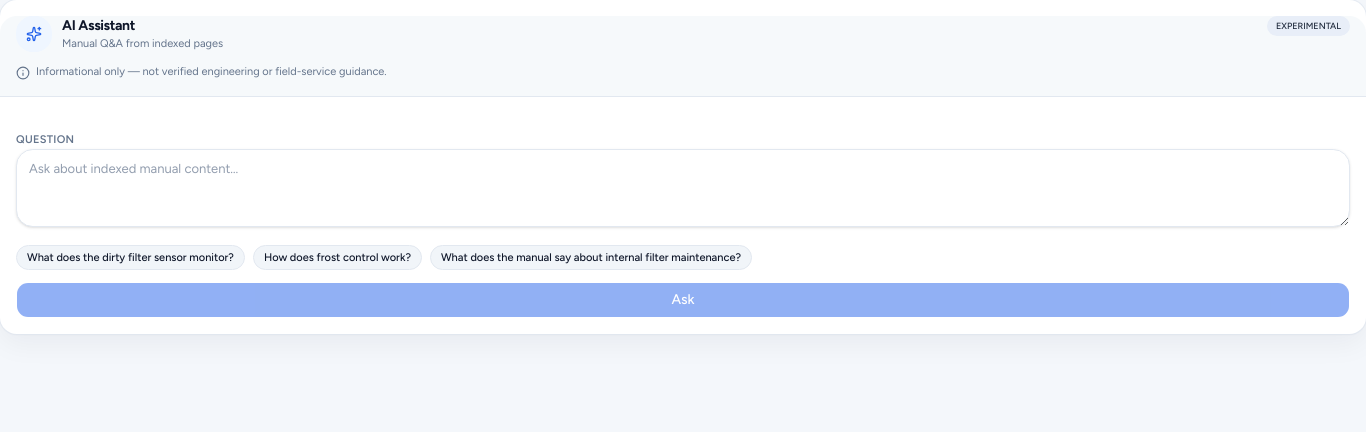
it: AiAssistantCard › shows error UI for HTTP 429
Type "Test question" into the text box named "Assistant question".
click(683, 188); type("Test question")  # box [16,149,1350,227]
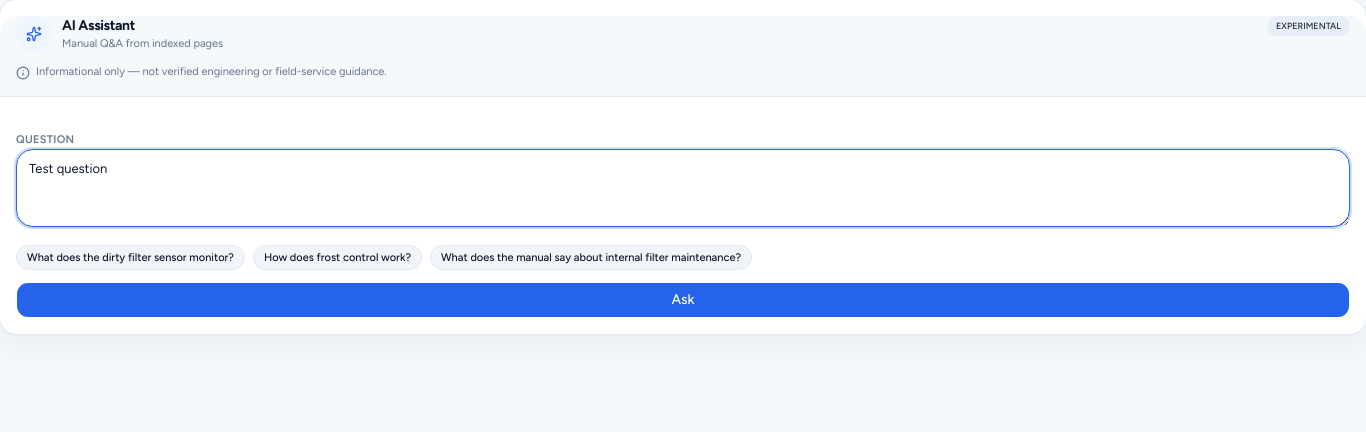
Click the button "Ask".
click(683, 300)  # box [16,282,1350,318]
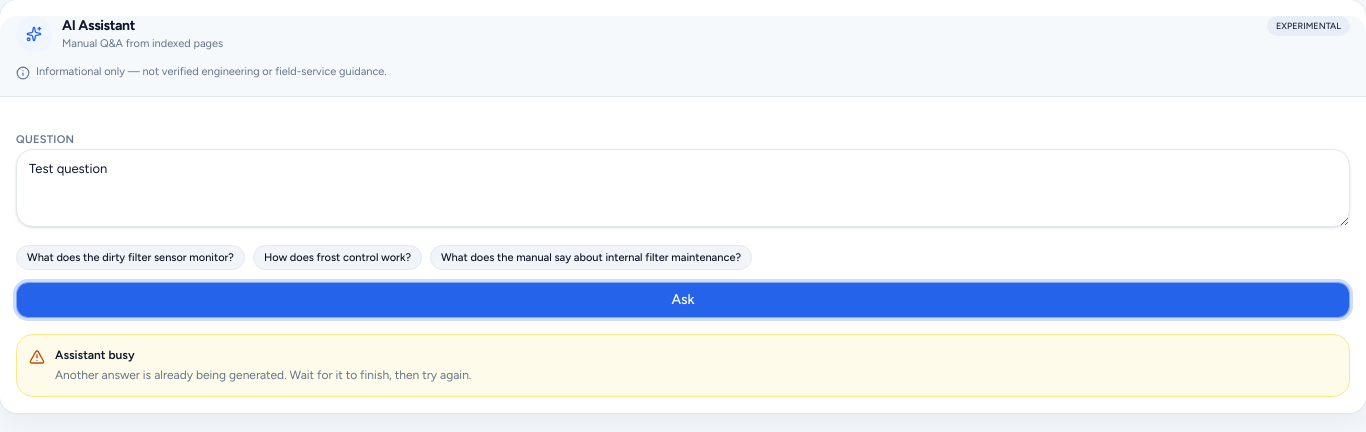
expect the message with test id "assistant-error" is shown: met, box [16,334,1350,397]
expect the message with test id "assistant-error" shows "busy": met, box [55,348,135,362]
